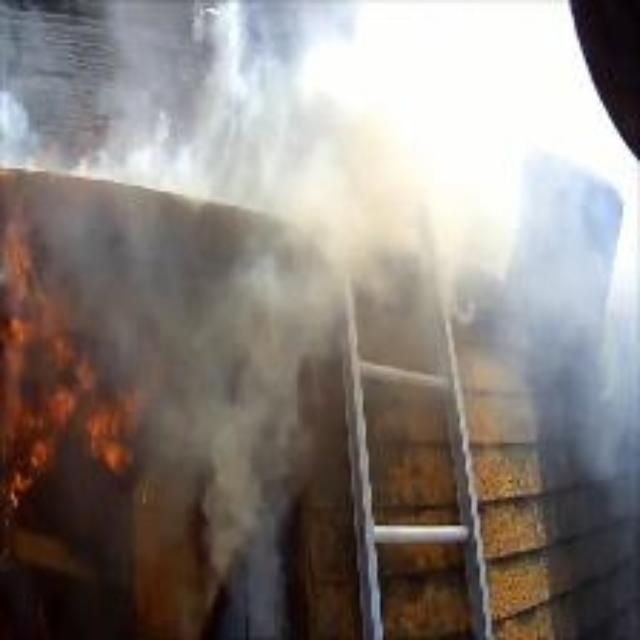fire: (3, 214, 140, 511)
smoke: (3, 3, 640, 629)
